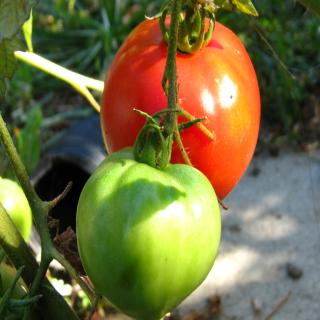tomato: (73, 108, 223, 320), (111, 18, 258, 200)
